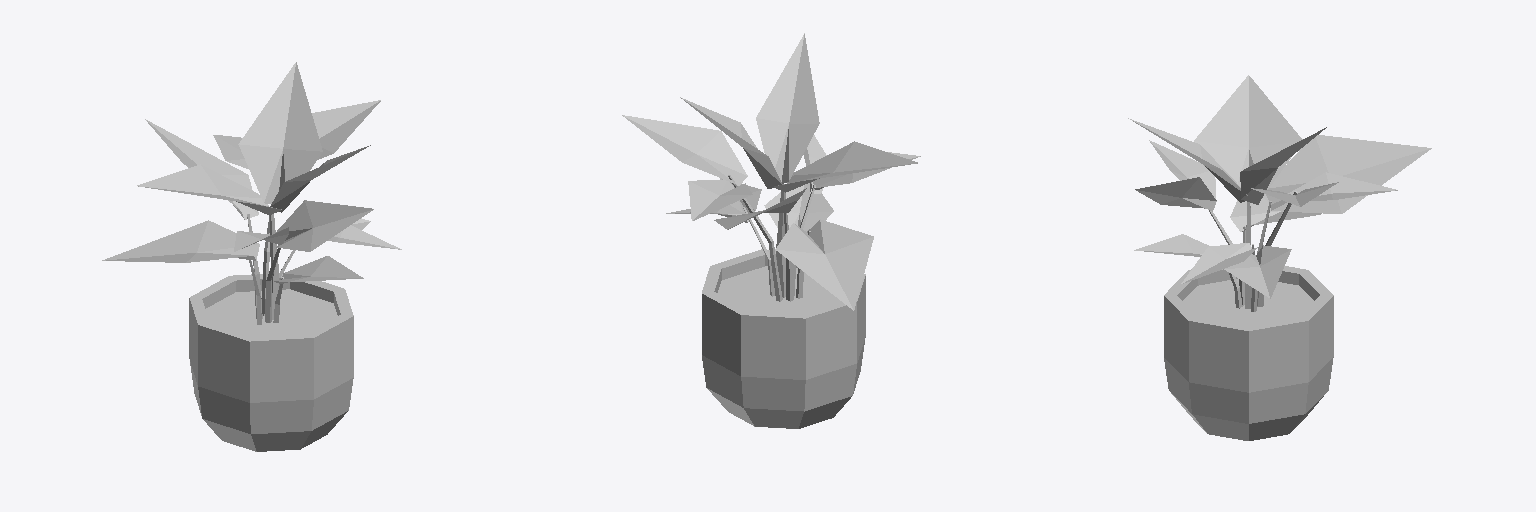
The model's file is plant.obj.
3 renders of one model, left to right at view 1: azimuth 30°, elevation 25°; view 2: azimuth 150°, elevation 25°; view 3: azimuth 270°, elevation 25°, orthographic.
Size of the model in its own units: 1.49 by 1.68 by 1.44.